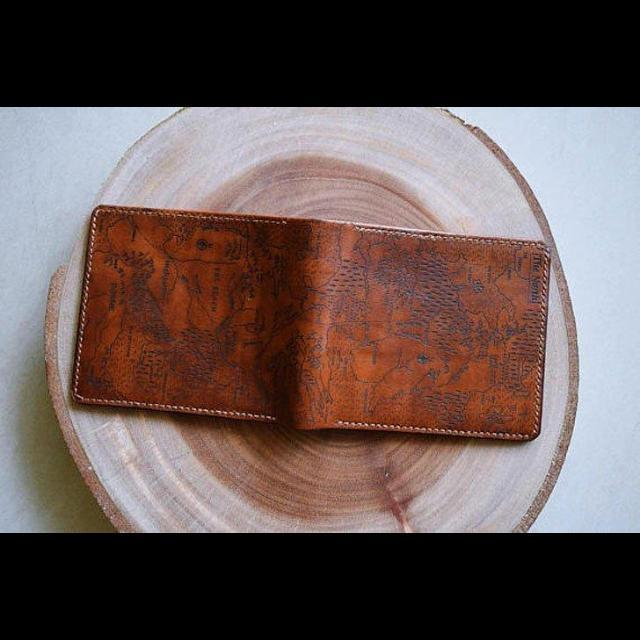wallet: (68, 201, 544, 445)
